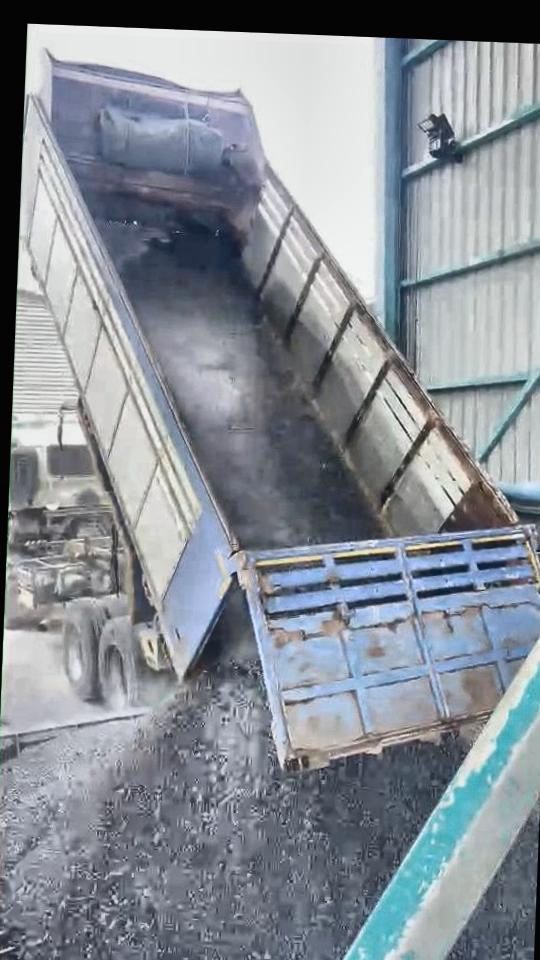gravel: (0, 663, 461, 960), (272, 411, 383, 545), (449, 821, 539, 960)
